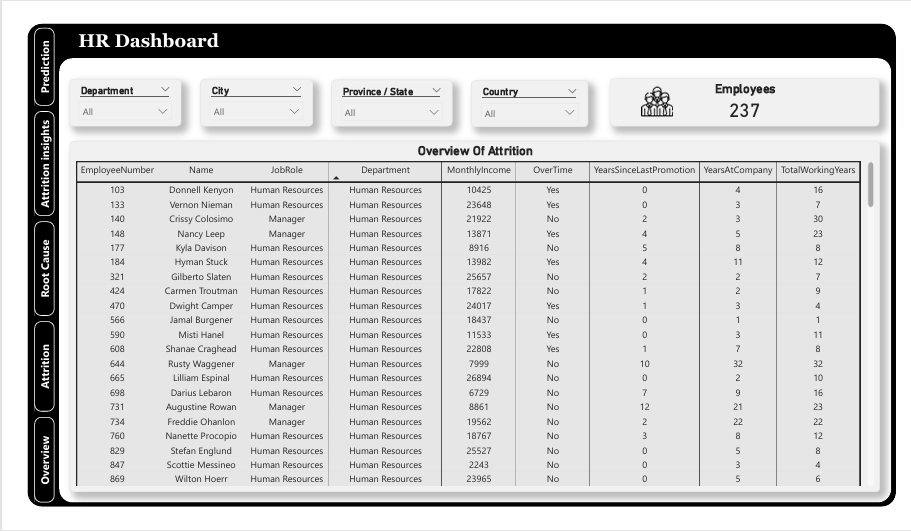

Layout of this report page (visuals, bound fields, positions):
{"tool":"powerbi","page":{"name":"Overview Of Attrition","canvas":[1280,720],"ordinal":3},"visuals":[{"type":"shape","box":[12.5,9,1259.1,701.2],"z":0},{"type":"shape","box":[59.1,59.1,1206.3,644.8],"z":1000},{"type":"shape","box":[74.3,8.6,228.6,50],"z":2000},{"type":"actionButton","box":[23.3,580.3,28.7,123.6],"z":3000},{"type":"actionButton","box":[23.3,440.6,28.7,131.6],"z":4000},{"type":"actionButton","box":[23.3,296.4,28.7,136.1],"z":5000},{"type":"actionButton","box":[23.3,136.1,28.7,152.2],"z":6000},{"type":"actionButton","box":[23.3,15.2,28.7,112.8],"z":7000},{"type":"tableEx","title":"Overview Of Attrition","fields":{"Values":["FACT_Employee_Records.EmployeeNumber","DIM_Employee.Name","DIM_Employee.JobRole","DIM_Department.Department","FACT_Employee_Records.MonthlyIncome","FACT_Employee_Records.OverTime","FACT_Employee_Records.YearsSinceLastPromotion","FACT_Employee_Records.YearsAtCompany","FACT_Employee_Records.TotalWorkingYears"]},"box":[74.3,178.6,1174.3,510],"z":8000},{"type":"card","title":"Employees","fields":{"Values":["Key-Measures.Attrition Yes"]},"box":[857,87.8,391.3,69.9],"z":9000},{"type":"image","box":[891,99.4,69,45.7],"z":10000},{"type":"slicer","title":"Department","fields":{"Values":["DIM_Department.Department"]},"box":[73.3,89,162.9,68.6],"z":11000},{"type":"slicer","title":"City","fields":{"Values":["DIM_Location.City"]},"box":[262.8,88.7,163.9,69],"z":12000},{"type":"slicer","title":"Province / State","fields":{"Values":["Geo.Province / State"]},"box":[453.4,90.4,175.5,67.2],"z":13000},{"type":"slicer","title":"Country","fields":{"Values":["Geo.Country"]},"box":[655.5,91.3,170.1,67.2],"z":14000}]}

Visuals, with their boxes on the page's 1280x720 design canvas (x1, y1, x2, y2). These are canvas units, not pixel positions in the 911x531 screenshot, which may show the page scaled, cropped or inside an application window:
shape: x1=12 y1=9 x2=1272 y2=710
shape: x1=59 y1=59 x2=1265 y2=704
shape: x1=74 y1=9 x2=303 y2=59
actionButton: x1=23 y1=580 x2=52 y2=704
actionButton: x1=23 y1=441 x2=52 y2=572
actionButton: x1=23 y1=296 x2=52 y2=432
actionButton: x1=23 y1=136 x2=52 y2=288
actionButton: x1=23 y1=15 x2=52 y2=128
"Overview Of Attrition" tableEx: x1=74 y1=179 x2=1249 y2=689
"Employees" card: x1=857 y1=88 x2=1248 y2=158
image: x1=891 y1=99 x2=960 y2=145
"Department" slicer: x1=73 y1=89 x2=236 y2=158
"City" slicer: x1=263 y1=89 x2=427 y2=158
"Province / State" slicer: x1=453 y1=90 x2=629 y2=158
"Country" slicer: x1=656 y1=91 x2=826 y2=158
